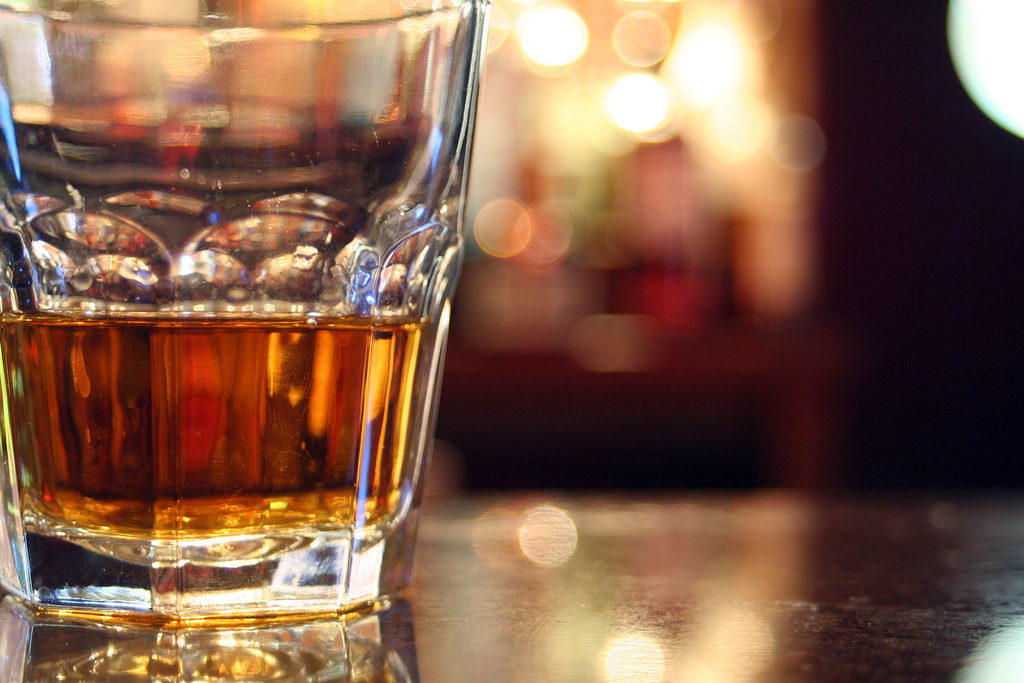Beer: (0, 294, 453, 579)
